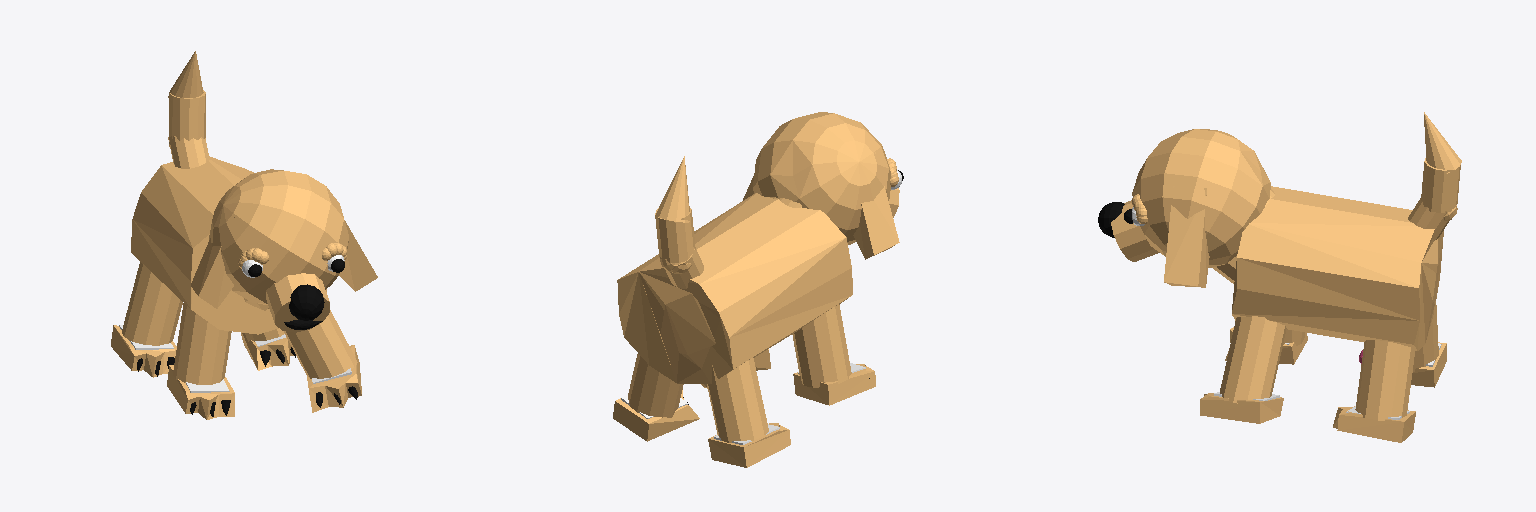
The picture shows the model from 3 angles: view 1: azimuth 30°, elevation 25°; view 2: azimuth 150°, elevation 25°; view 3: azimuth 270°, elevation 25°; orthographic projection.
Visible parts, largest first — view 1: group[number redacted], group[number redacted], group[number redacted], group[number redacted], group[number redacted], group[number redacted], group[number redacted], group[number redacted], group[number redacted], group[number redacted], group[number redacted], group[number redacted] (+4 smaller); view 2: group[number redacted], group[number redacted], group[number redacted], group[number redacted], group[number redacted], group[number redacted], group[number redacted], group[number redacted], group[number redacted], group[number redacted], group[number redacted], group[number redacted]; view 3: group[number redacted], group[number redacted], group[number redacted], group[number redacted], group[number redacted], group[number redacted], group[number redacted], group[number redacted], group[number redacted], group[number redacted], group[number redacted], group[number redacted] (+2 smaller).
Boxes of the visible parts, x1=… form: group[number redacted]: x1=209, y1=169, x2=348, y2=304; group[number redacted]: x1=131, y1=156, x2=326, y2=334; group[number redacted]: x1=173, y1=303, x2=231, y2=384; group[number redacted]: x1=122, y1=262, x2=182, y2=345; group[number redacted]: x1=284, y1=310, x2=357, y2=378; group[number redacted]: x1=266, y1=273, x2=329, y2=332; group[number redacted]: x1=191, y1=217, x2=234, y2=308; group[number redacted]: x1=169, y1=90, x2=205, y2=140; group[number redacted]: x1=167, y1=365, x2=234, y2=419; group[number redacted]: x1=111, y1=325, x2=176, y2=377; group[number redacted]: x1=307, y1=345, x2=361, y2=412; group[number redacted]: x1=339, y1=221, x2=377, y2=291; group[number redacted]: x1=617, y1=193, x2=852, y2=383; group[number redacted]: x1=753, y1=112, x2=890, y2=244; group[number redacted]: x1=707, y1=358, x2=768, y2=442; group[number redacted]: x1=792, y1=304, x2=851, y2=387; group[number redacted]: x1=628, y1=354, x2=683, y2=417; group[number redacted]: x1=853, y1=152, x2=899, y2=259; group[number redacted]: x1=708, y1=423, x2=790, y2=467; group[number redacted]: x1=613, y1=390, x2=699, y2=441; group[number redacted]: x1=793, y1=364, x2=875, y2=405; group[number redacted]: x1=655, y1=208, x2=695, y2=262; group[number redacted]: x1=655, y1=156, x2=689, y2=222; group[number redacted]: x1=666, y1=248, x2=703, y2=288; group[number redacted]: x1=1232, y1=186, x2=1443, y2=350; group[number redacted]: x1=1132, y1=129, x2=1270, y2=267; group[number redacted]: x1=1220, y1=316, x2=1286, y2=403; group[number redacted]: x1=1355, y1=340, x2=1414, y2=420; group[number redacted]: x1=1164, y1=186, x2=1209, y2=287; group[number redacted]: x1=1200, y1=393, x2=1283, y2=423; group[number redacted]: x1=1333, y1=406, x2=1415, y2=442; group[number redacted]: x1=1421, y1=158, x2=1460, y2=212; group[number redacted]: x1=1111, y1=200, x2=1159, y2=261; group[number redacted]: x1=1424, y1=112, x2=1461, y2=173; group[number redacted]: x1=1408, y1=198, x2=1448, y2=240; group[number redacted]: x1=1411, y1=342, x2=1446, y2=387.
Size of the model in its own units: 0.2948 by 0.4472 by 0.4906.